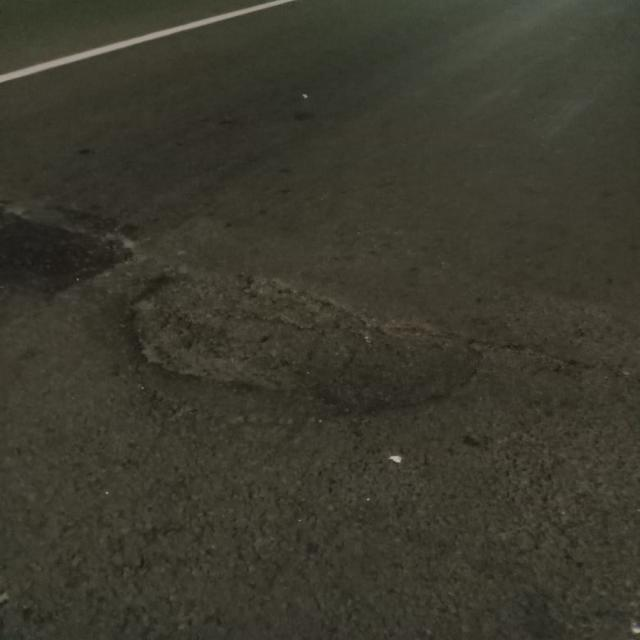Buraco: (118, 261, 500, 421)
